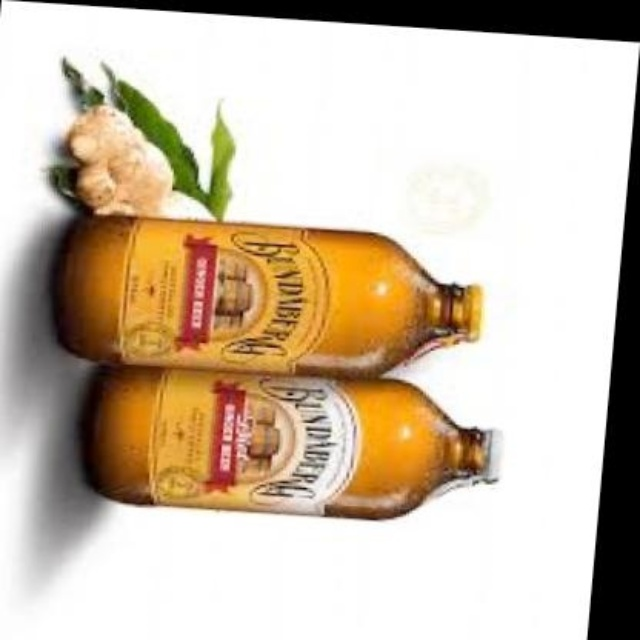trash: (55, 215, 480, 375), (86, 368, 492, 517)
